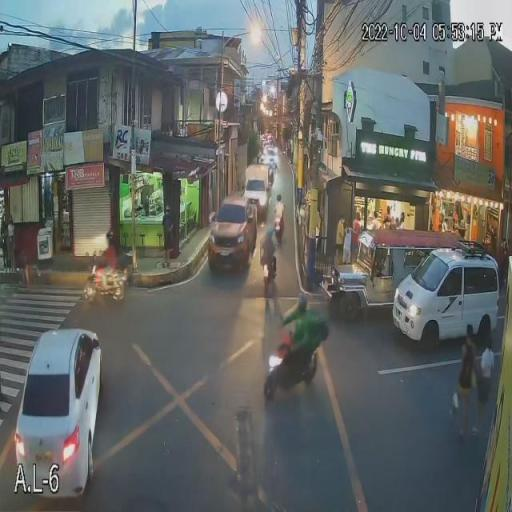helmet: (295, 293, 308, 316), (106, 230, 114, 244), (276, 193, 283, 204), (265, 228, 273, 237)
motorcycle: (266, 334, 325, 400), (85, 257, 136, 308), (257, 246, 279, 286), (273, 211, 285, 240)
rider: (286, 304, 310, 361), (103, 236, 116, 280), (262, 232, 275, 267), (274, 200, 286, 221)
